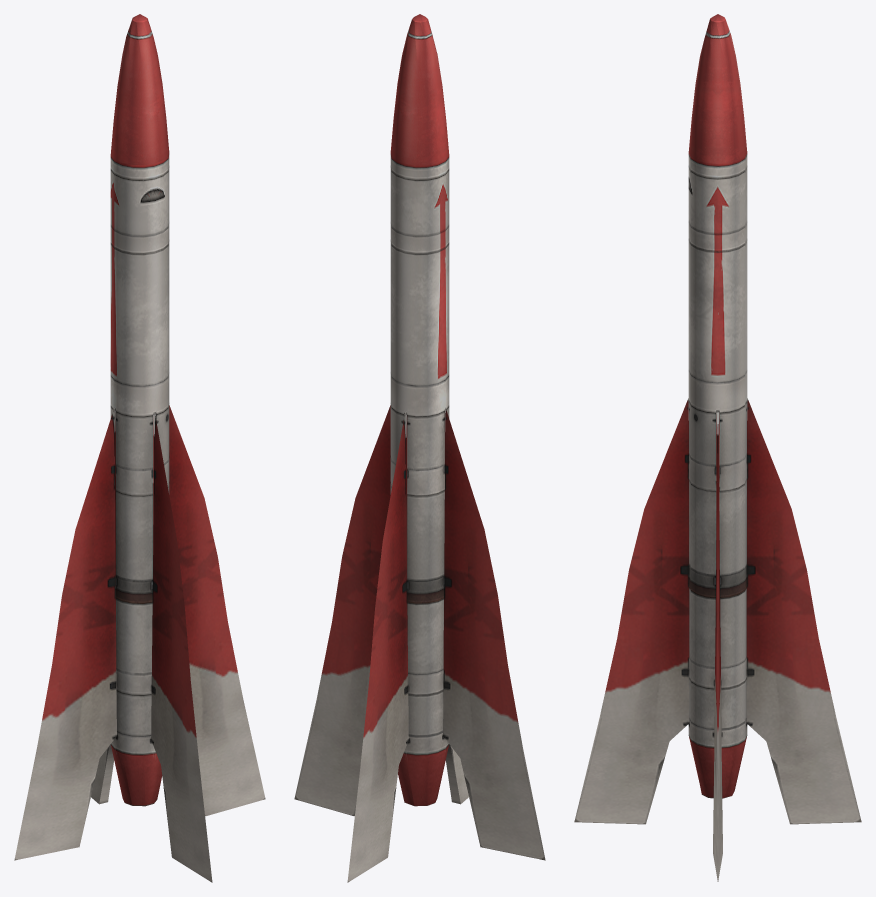
File: TP_Ronin_Rocket.fbx
3 views of the same model, side by side, from view 1: azimuth 30°, elevation 25°; view 2: azimuth 150°, elevation 25°; view 3: azimuth 270°, elevation 25° (orthographic).
Parts seen in each view (by area): view 1: TP_Ronin_Rocket; view 2: TP_Ronin_Rocket; view 3: TP_Ronin_Rocket.
Boxes of the visible parts, <box> form: TP_Ronin_Rocket: <box>14,14,265,882</box>; TP_Ronin_Rocket: <box>294,14,545,882</box>; TP_Ronin_Rocket: <box>574,14,861,881</box>.
Bounding box in the file's own units: 38.03 × 118 × 38.03.
